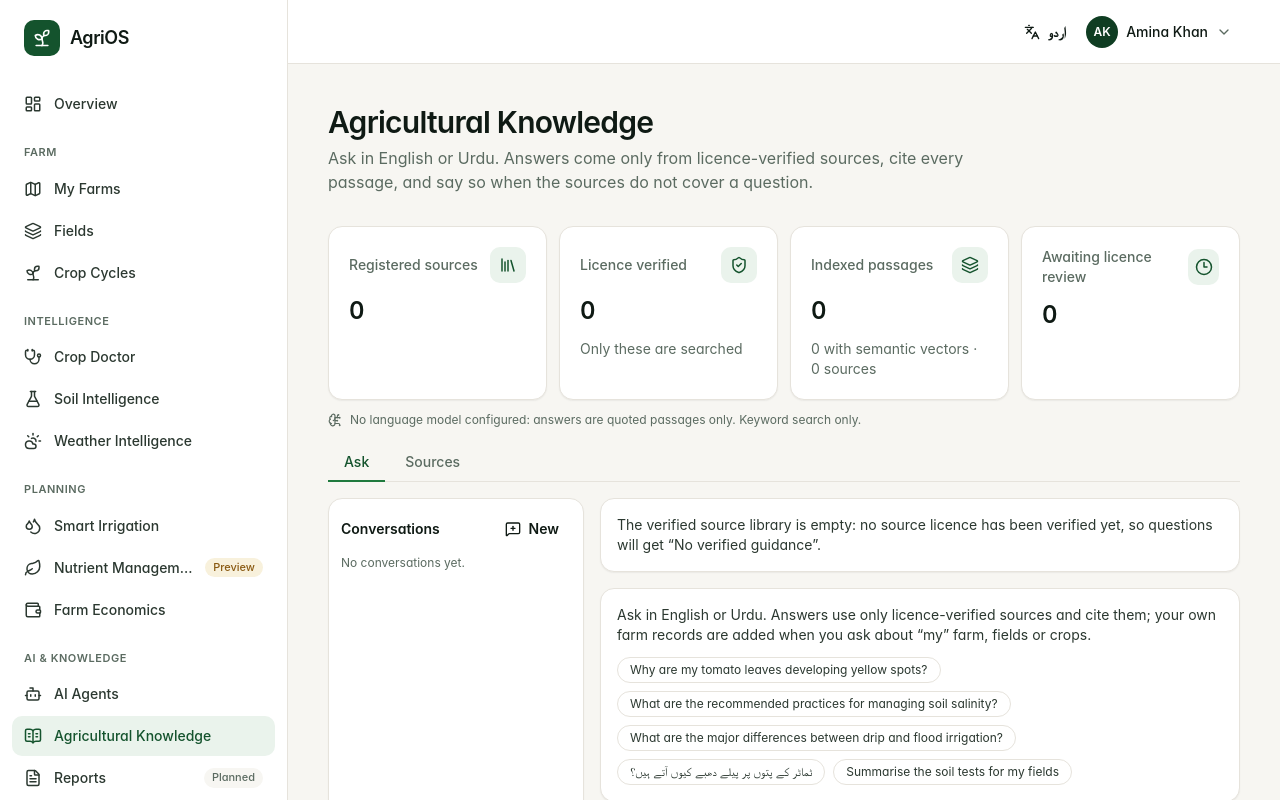
Agricultural Knowledge (FR8 RAG) › says the library is empty and hides admin controls and analytics from farmers
The width and height of the screenshot is (1280, 800).
Expected: the text "verified source library is empty" is shown, left=617, top=516, right=1213, bottom=553
Click the tab "Sources": (433, 463) left=389, top=444, right=476, bottom=482
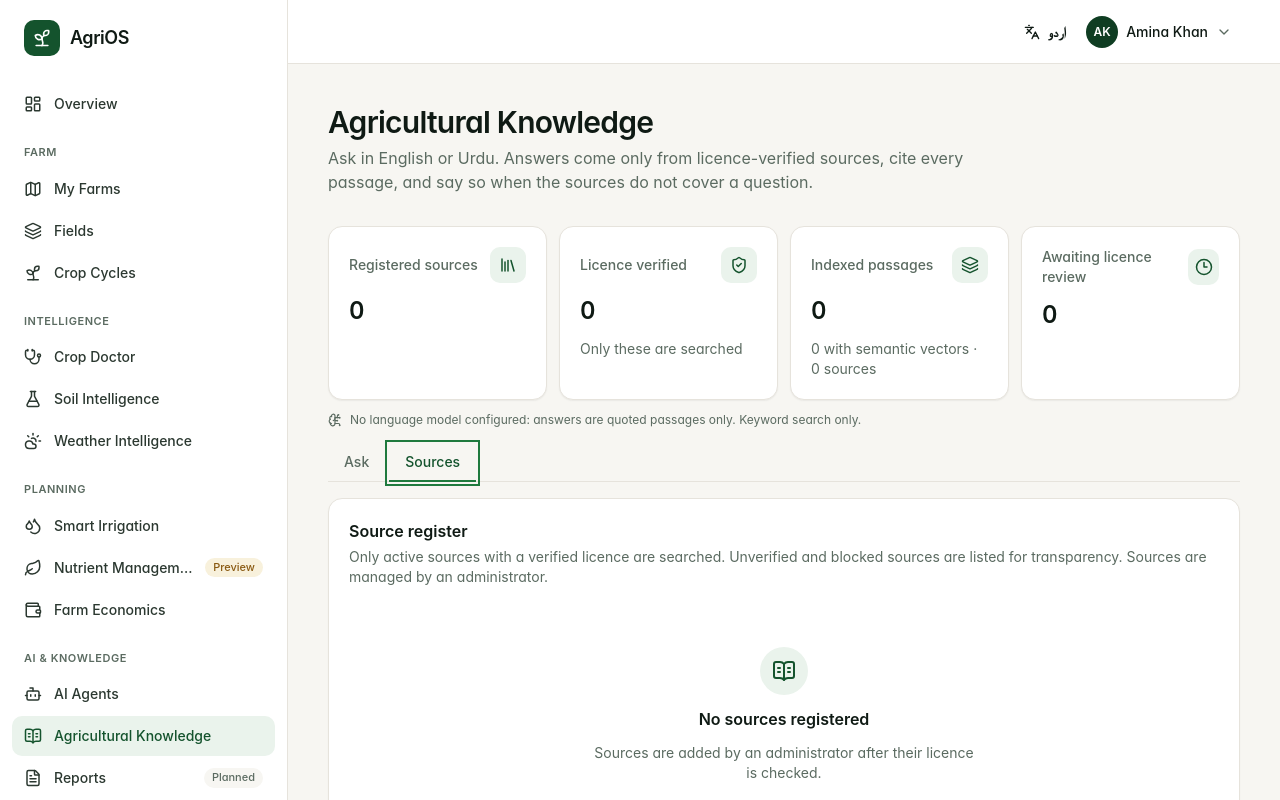
Expected: the heading "No sources registered" is shown, left=699, top=707, right=869, bottom=731
